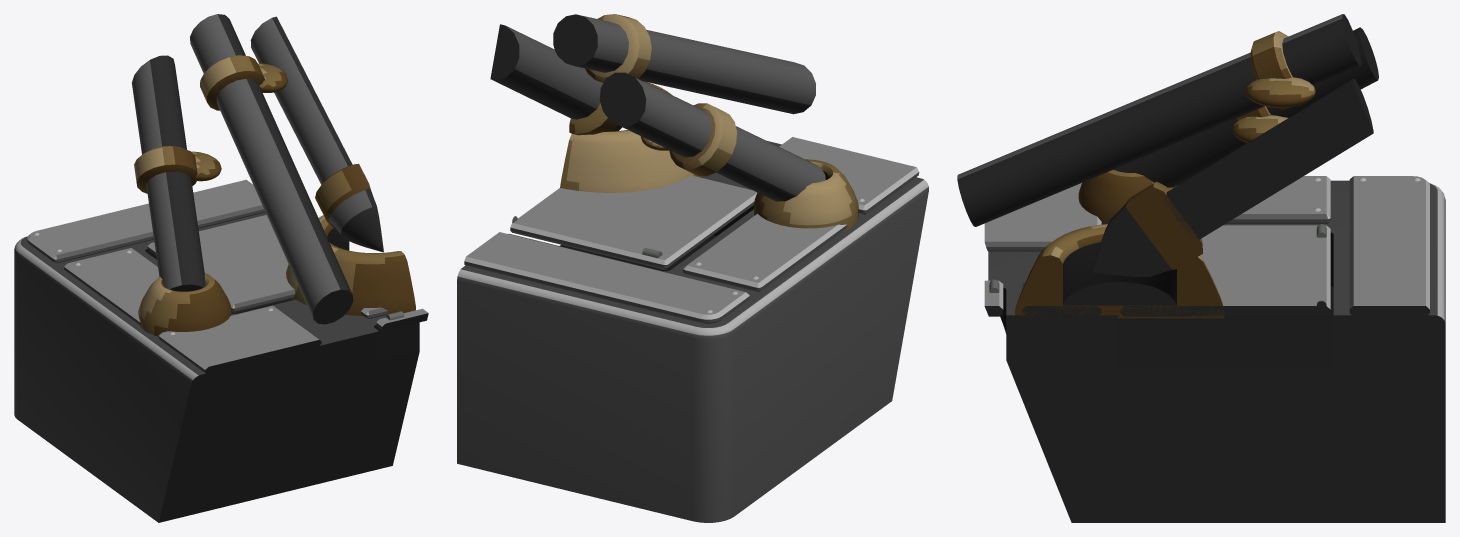
The model's file is asteroid_rig_tl_77.glb.
The picture shows the model from 3 angles, left to right: view 1: azimuth 30°, elevation 25°; view 2: azimuth 150°, elevation 25°; view 3: azimuth 270°, elevation 25°; orthographic projection. The views are drawn at different scales.
Visible parts, largest first — view 1: asteroid_rig_tl_77; view 2: asteroid_rig_tl_77; view 3: asteroid_rig_tl_77.
Part boxes in pixels (box(x1,y1,x2,y2)): asteroid_rig_tl_77: box(14, 14, 428, 522); asteroid_rig_tl_77: box(457, 14, 928, 522); asteroid_rig_tl_77: box(957, 14, 1445, 522).
Bounding box in the file's own units: 20 × 31.47 × 29.84.
